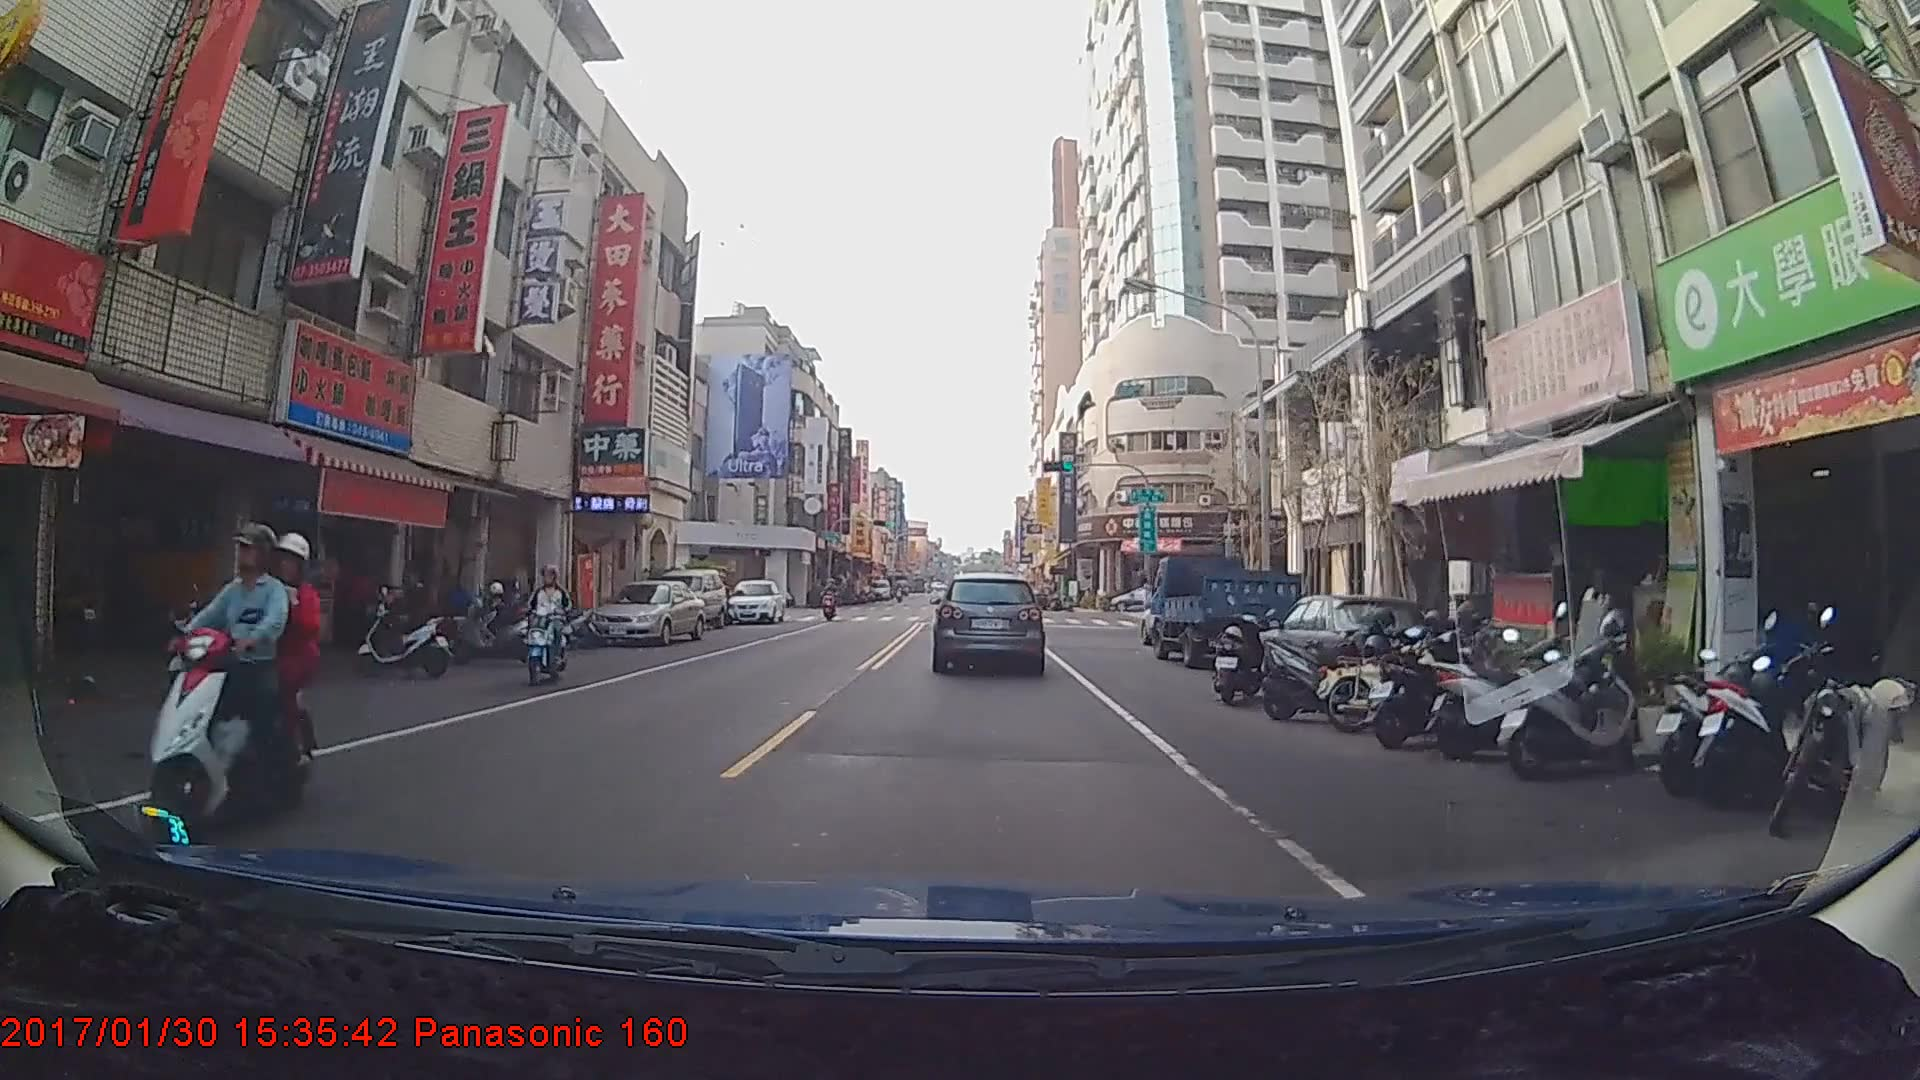rider: (136, 523, 325, 833), (523, 565, 579, 686), (820, 580, 841, 626)
vehicle: (1147, 551, 1303, 669), (933, 572, 1045, 673), (583, 576, 707, 646), (650, 565, 730, 631), (726, 577, 784, 625), (1106, 584, 1170, 611)
